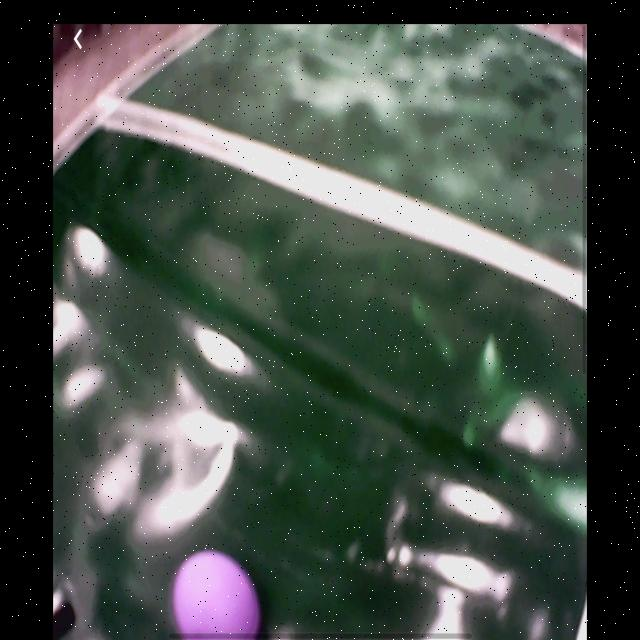ball: (172, 549, 263, 638)
